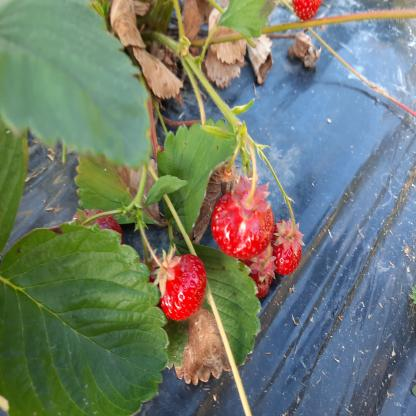ripe: (213, 191, 273, 260), (158, 250, 203, 319), (270, 227, 303, 275), (292, 0, 325, 19)
